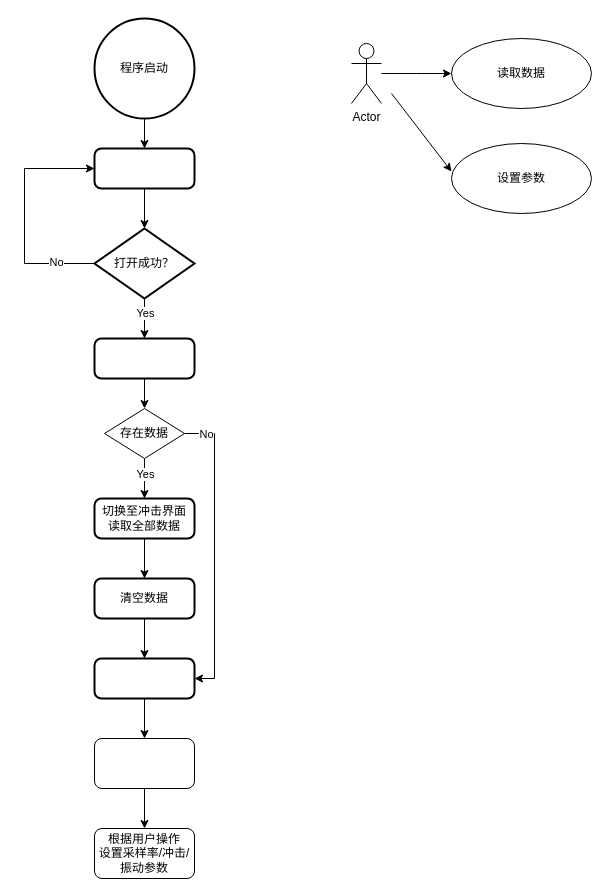
This 609x896 diagram has some shape labels left out. The shapes that lost their labels are listed below. From the top down, each one's centre as x and y in pixels, then its label:
(x=144, y=168): 打开串口
(x=144, y=358): 查询存储帧数
(x=144, y=678): 更新时间
(x=144, y=763): 根据用户操作 切换冲击/振动
